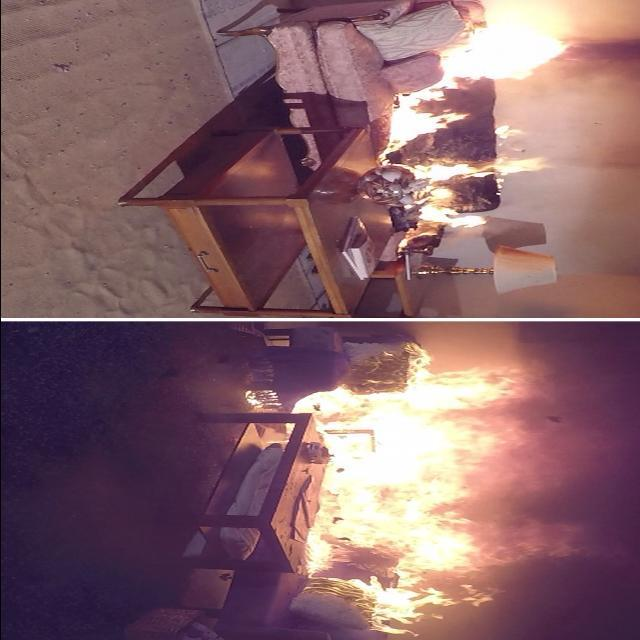Fire: (297, 352, 527, 636), (394, 14, 592, 240)
